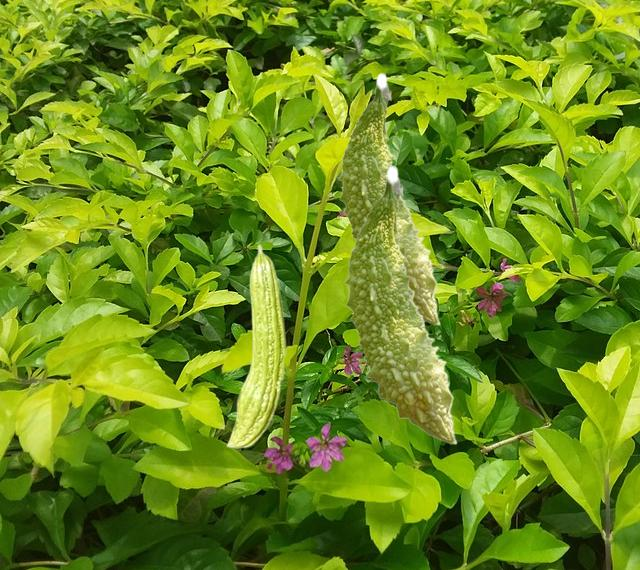ampalaya: (341, 163, 458, 445), (335, 72, 441, 326), (225, 243, 288, 450)
